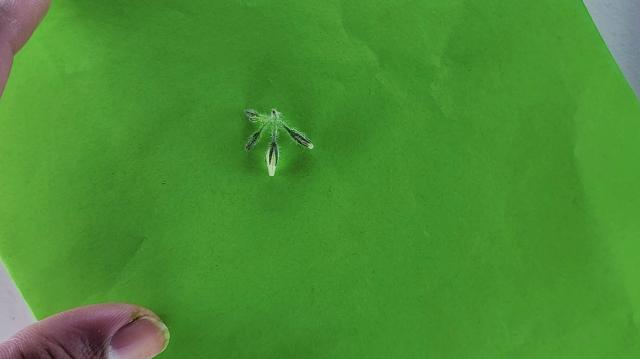Flower Bud: (287, 128, 313, 148), (245, 128, 262, 150), (266, 148, 278, 176), (243, 109, 260, 121)
